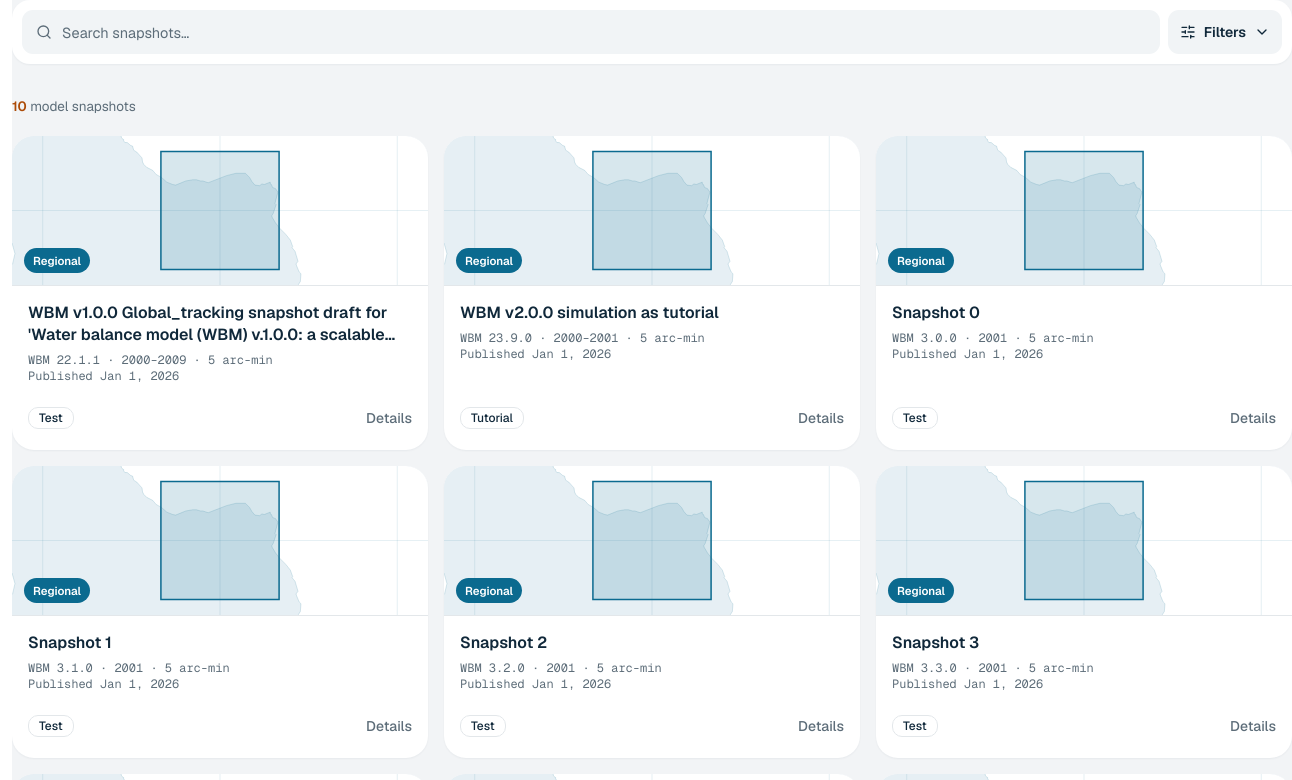
it: the toolbar and the Filters panel › has a search box, and a Filters button that opens a panel, closed to start with
Check: the search field named "Search model snapshots" is shown, box [62,10,1146,54]
What coordinates should you click on to do the following:
click the button "Filters"
I would click on:
 (1225, 32)
Its box is [1168,10,1282,54].
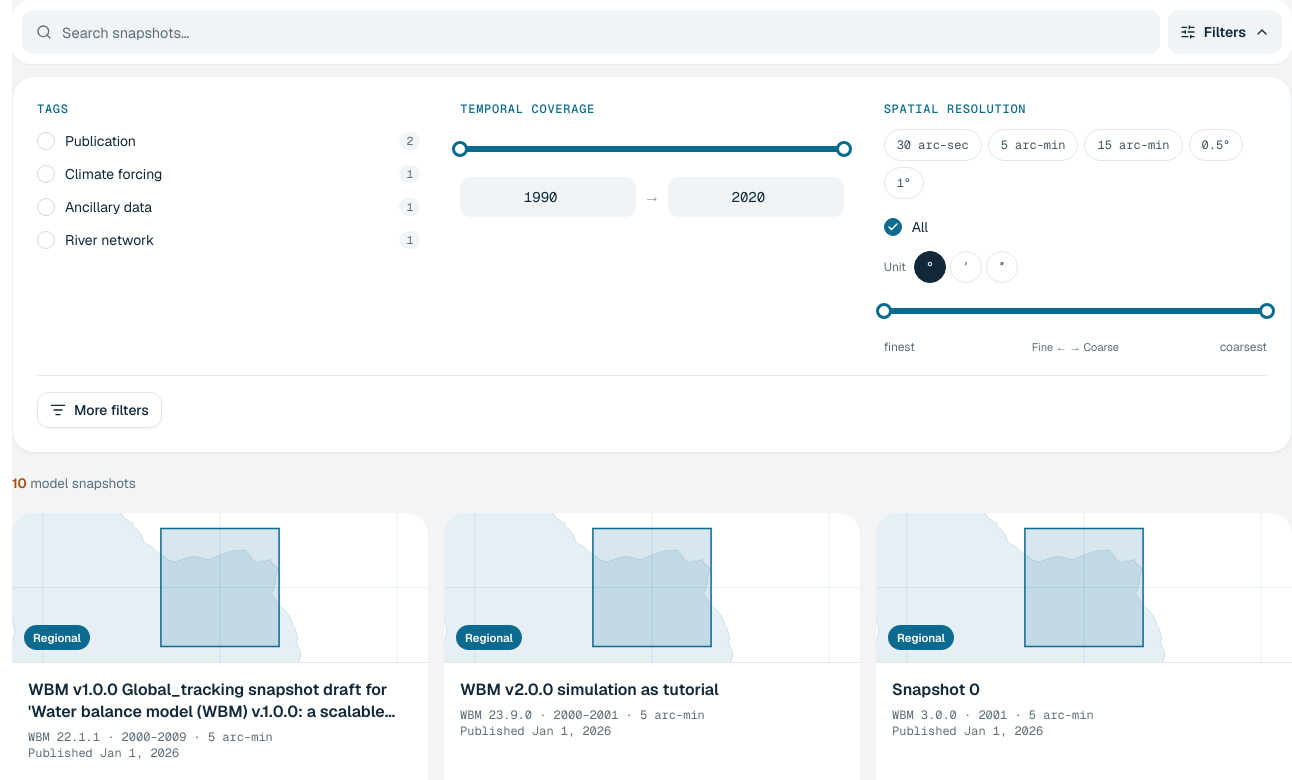
Check: the button "Filters" is expanded
Check: the heading "Tags" is shown, box [37,101,69,117]
Check: the heading "Temporal coverage" is shown, box [460,101,595,117]
What coordinates should you click on to do the following:
click the button "Filters"
I would click on:
 (1225, 32)
Its box is [1168,10,1282,54].
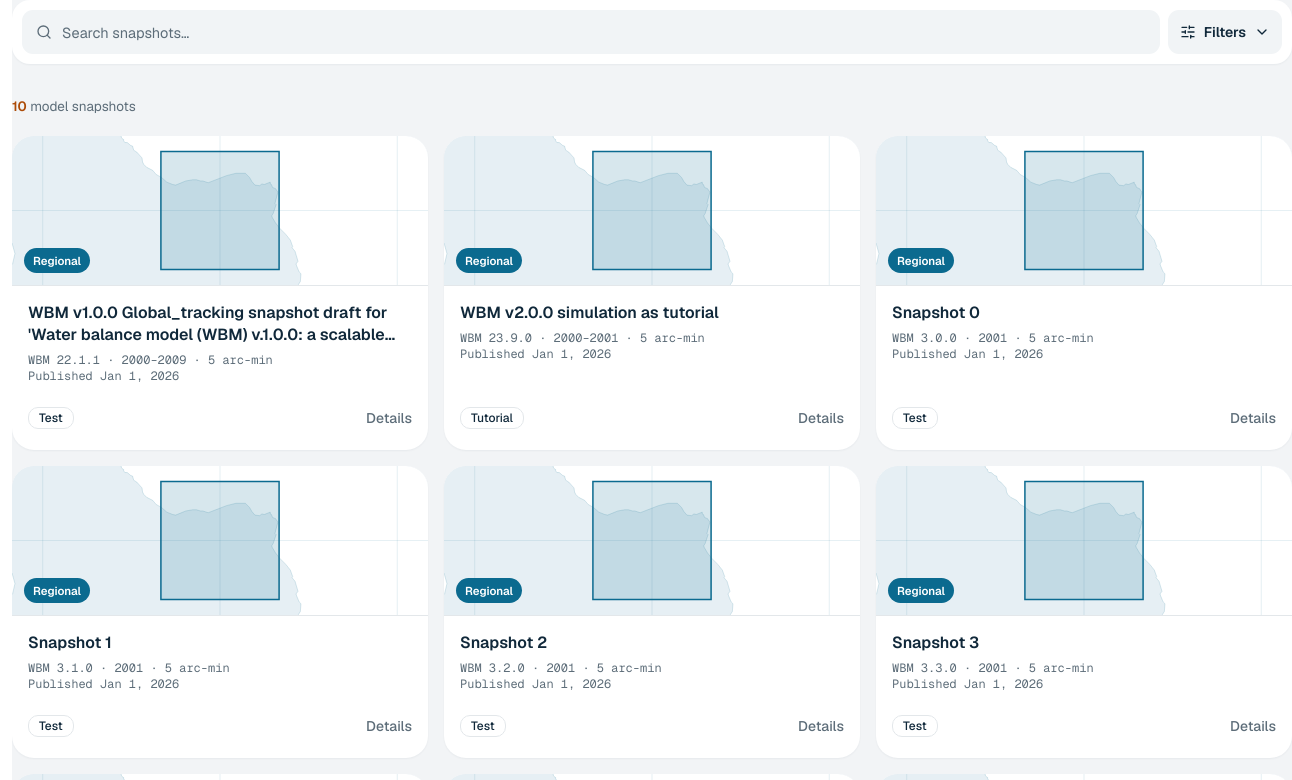
Check: the button "Filters" is collapsed, box [1168,10,1282,54]
